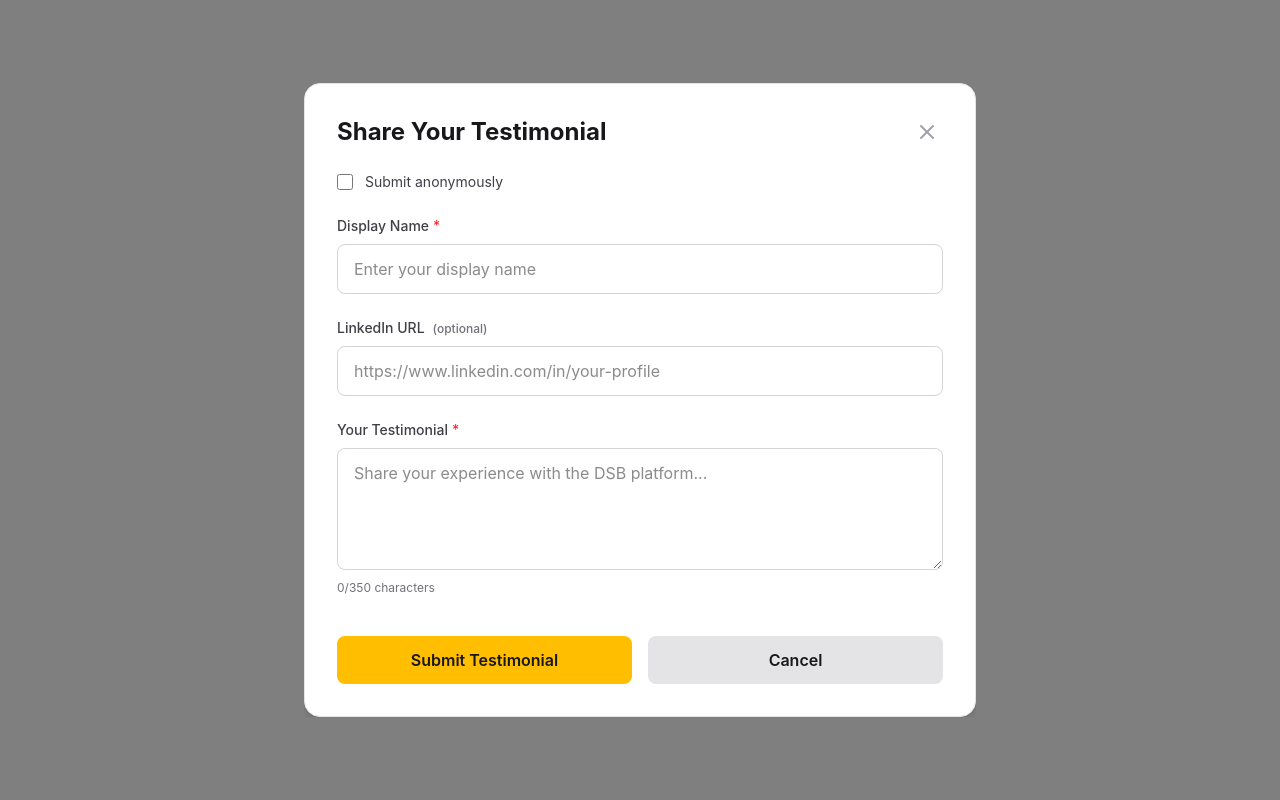
Test: validates required quote before submitting
// Submit with an empty quote
Click the button "Submit Testimonial" at (484, 660), box 337,636 -> 632,684
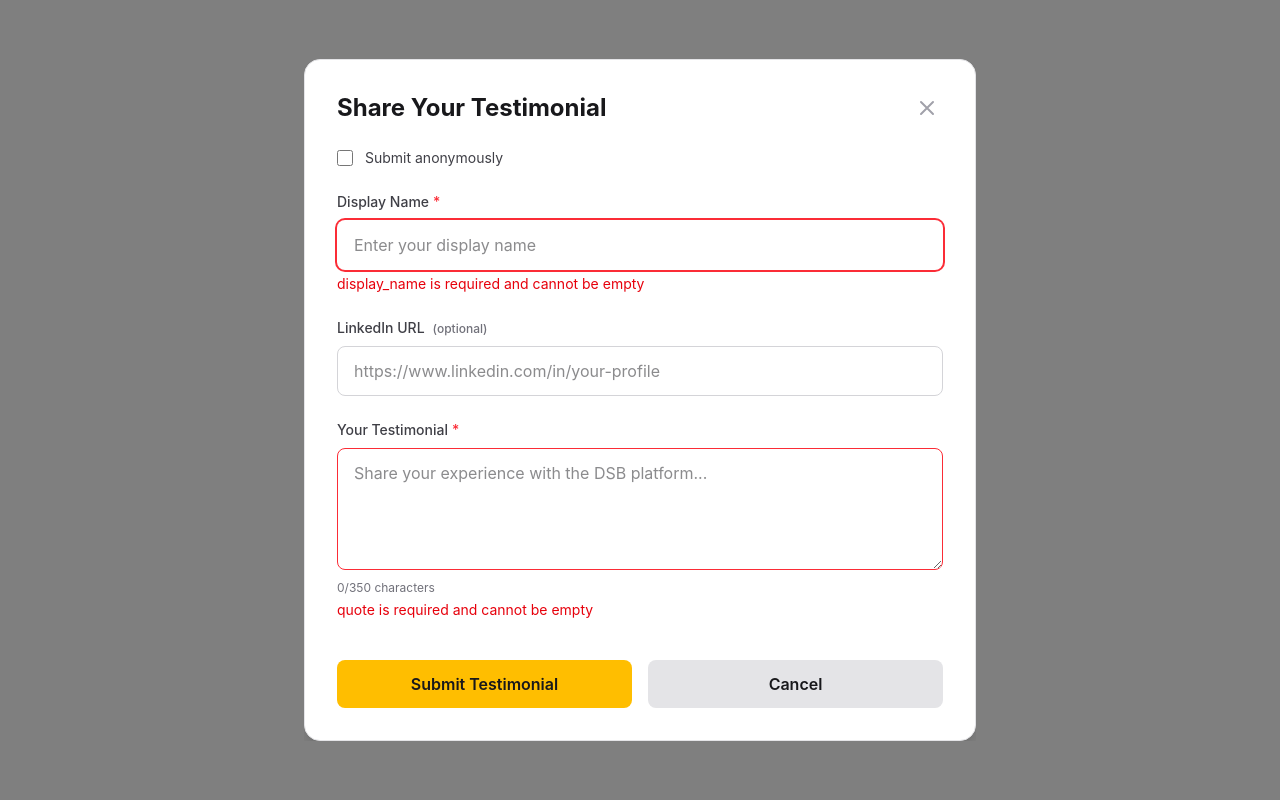
Now the text "quote is required and cannot be empty" is shown, box 337,601 -> 593,618
